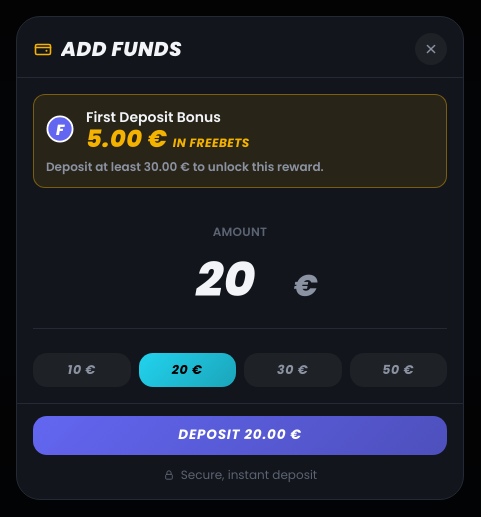
Scenario: DepositModal › states the minimum deposit needed, then switches to a qualifying message once the typed amount meets it
Expected: the text "First Deposit Bonus" is shown, [86, 107, 221, 127]
Expected: the text "Deposit at least 30.00 € to unlock this reward." is shown, [46, 158, 324, 175]
Replace the text in the field labelled "Amount" with "35" at (226, 280), box [162, 244, 290, 316]
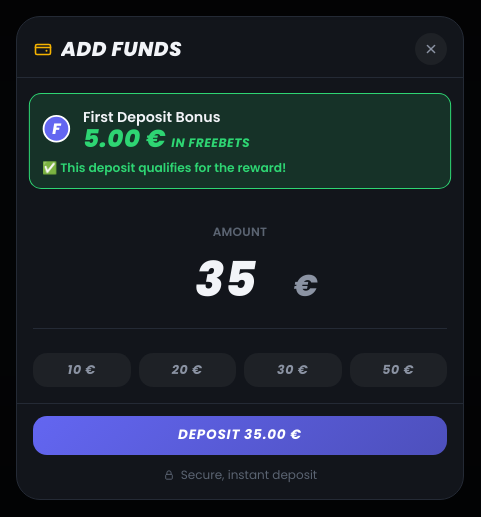
Expected: the text "This deposit qualifies for the reward!" is shown, [42, 159, 286, 176]
Expected: the text "Deposit at least 30.00 € to unlock this reward." is gone
